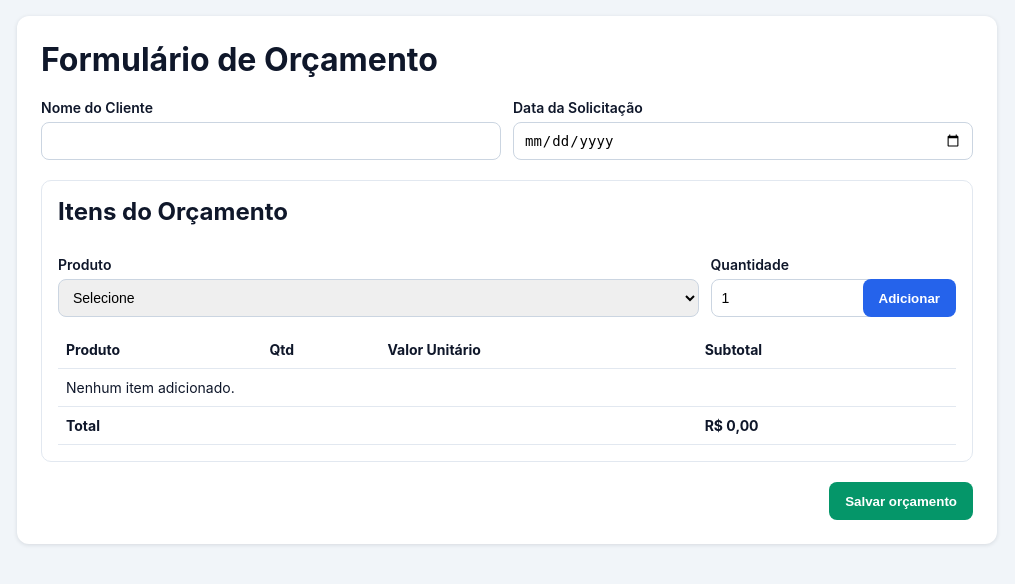
Test case: App › carrega produtos e adiciona item
Select "Mouse - R$ 150,00" in the dropdown labelled "Produto" at x=378, y=298, box [58,279,698,317]
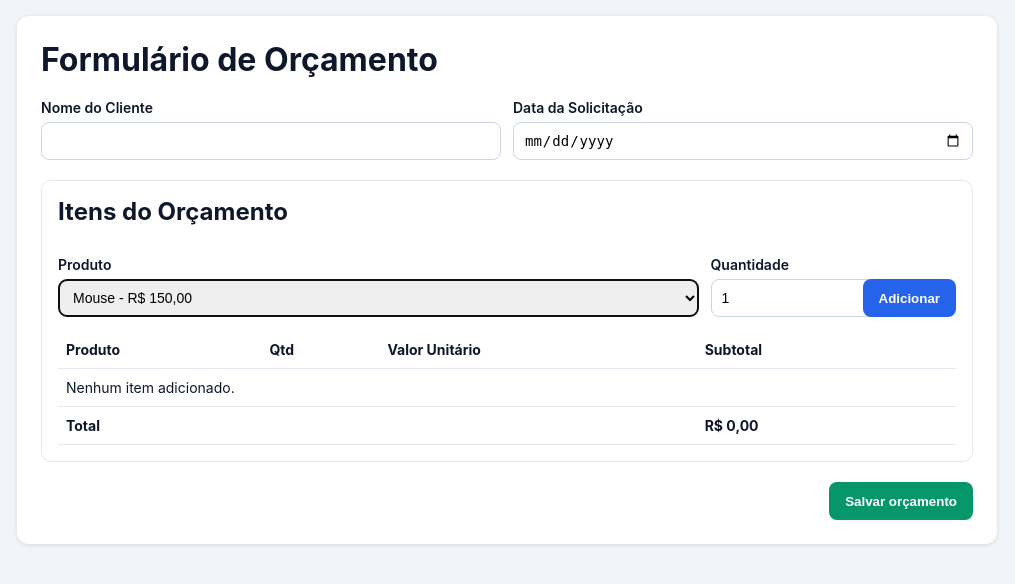
Replace the text in the number field labelled "Quantidade" with "2" at x=812, y=298, box [710,279,914,317]
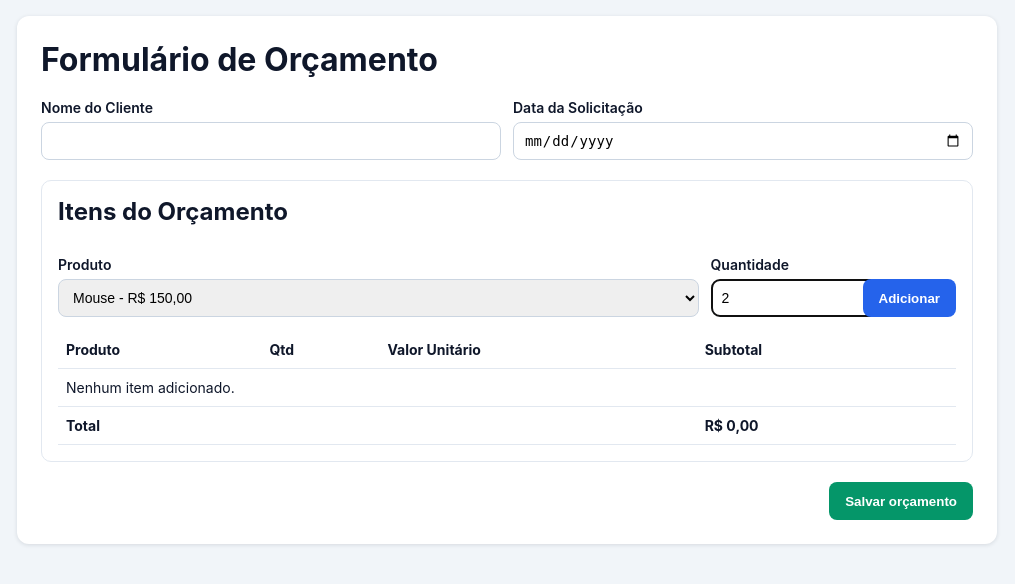
Click the button "Adicionar" at x=909, y=298, box [862,279,956,317]
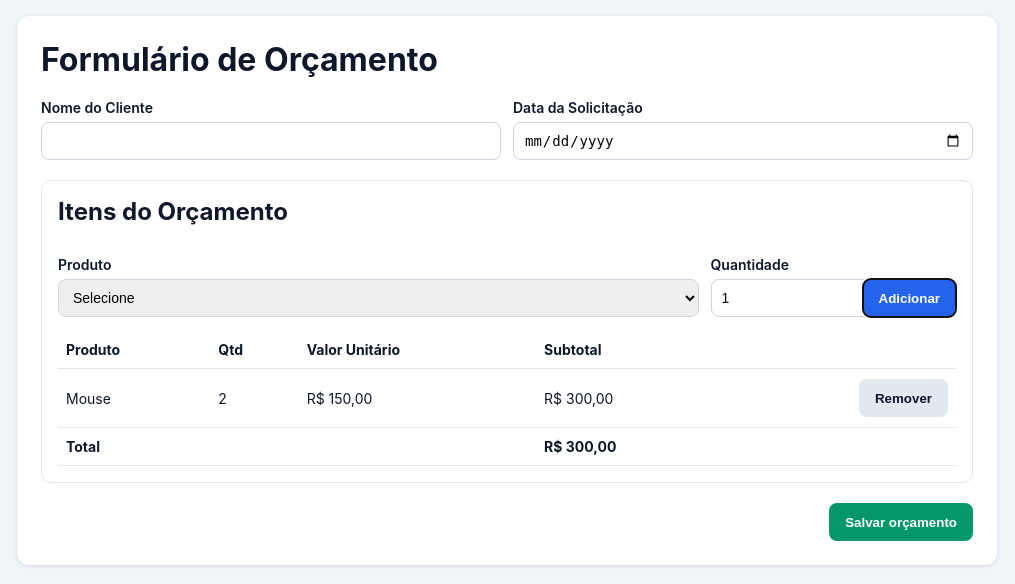
Check: the text "R$ 300,00" is shown 2 times, box [536,368,728,428]; [536,428,728,466]
